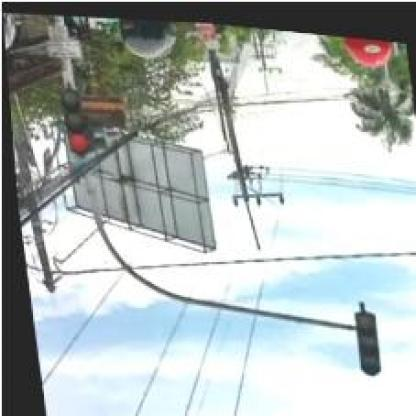red: (54, 85, 85, 157)
yellow: (348, 302, 378, 368)
